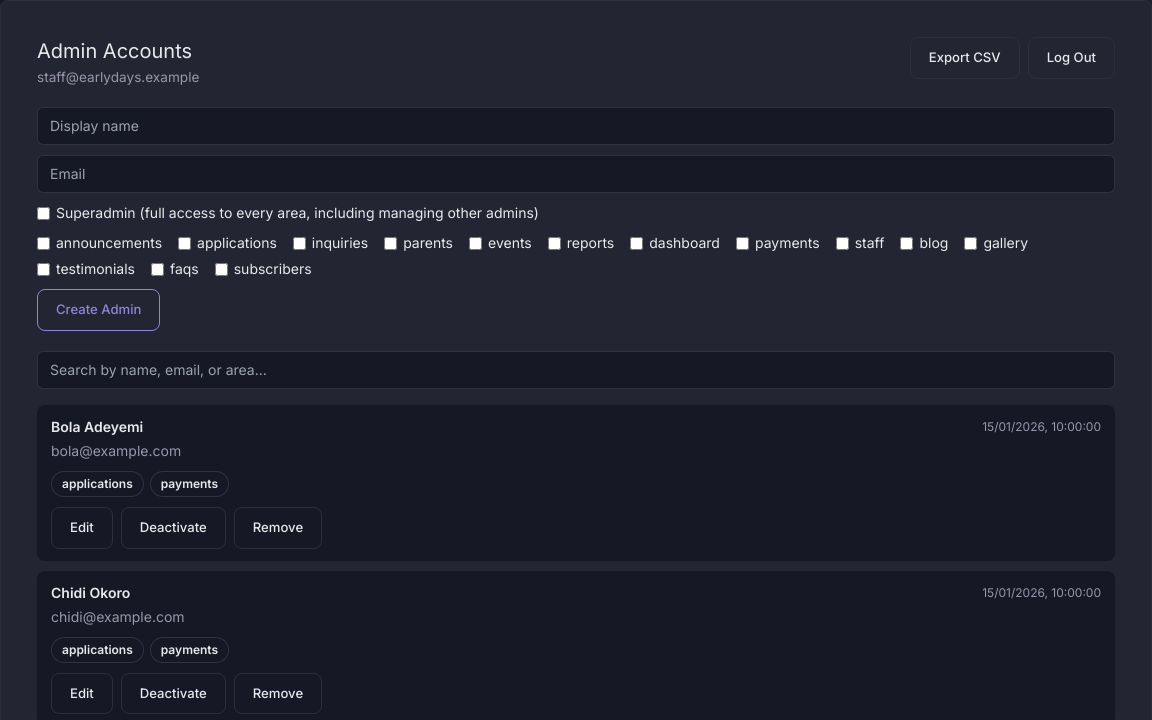
Scenario: AdminAccessList › narrows the list by search text
This screenshot has width=1152, height=720.
Expected: the text "Bola Adeyemi" is shown, [51,417,143,437]
Expected: the text "Chidi Okoro" is shown, [51,583,130,603]
Type "Chidi" into the field named "Search admin accounts" at (576, 370), box [37,351,1115,389]
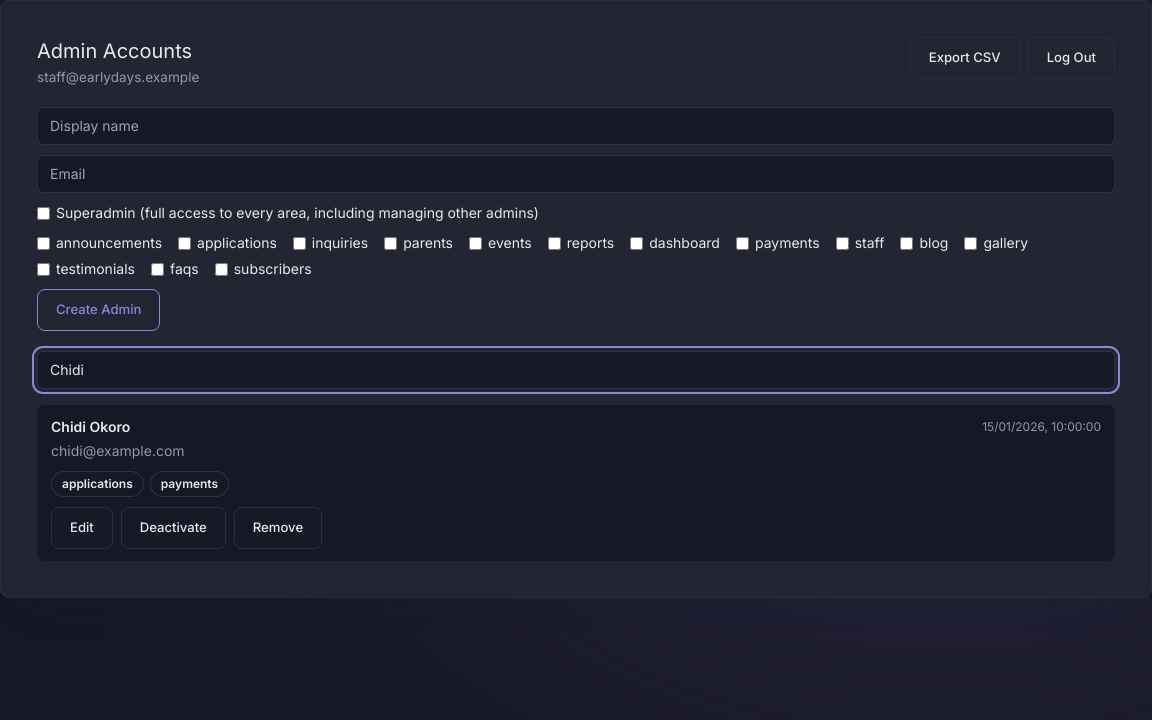
Expected: the text "Chidi Okoro" is shown, [51,417,130,437]
Now the text "Bola Adeyemi" is gone
